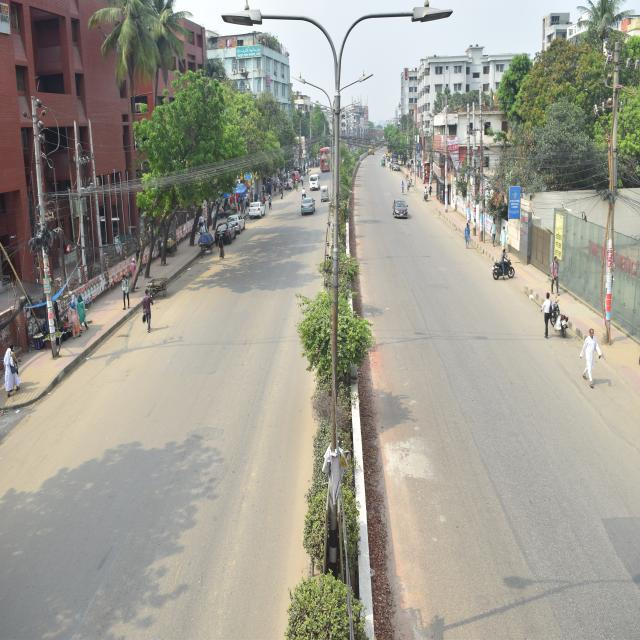bus: (320, 142, 333, 178)
car: (228, 199, 246, 236), (215, 219, 233, 255), (298, 195, 318, 227), (248, 195, 270, 223), (394, 197, 414, 222), (302, 171, 321, 194)
motorbike: (537, 289, 571, 338), (488, 252, 512, 282)
